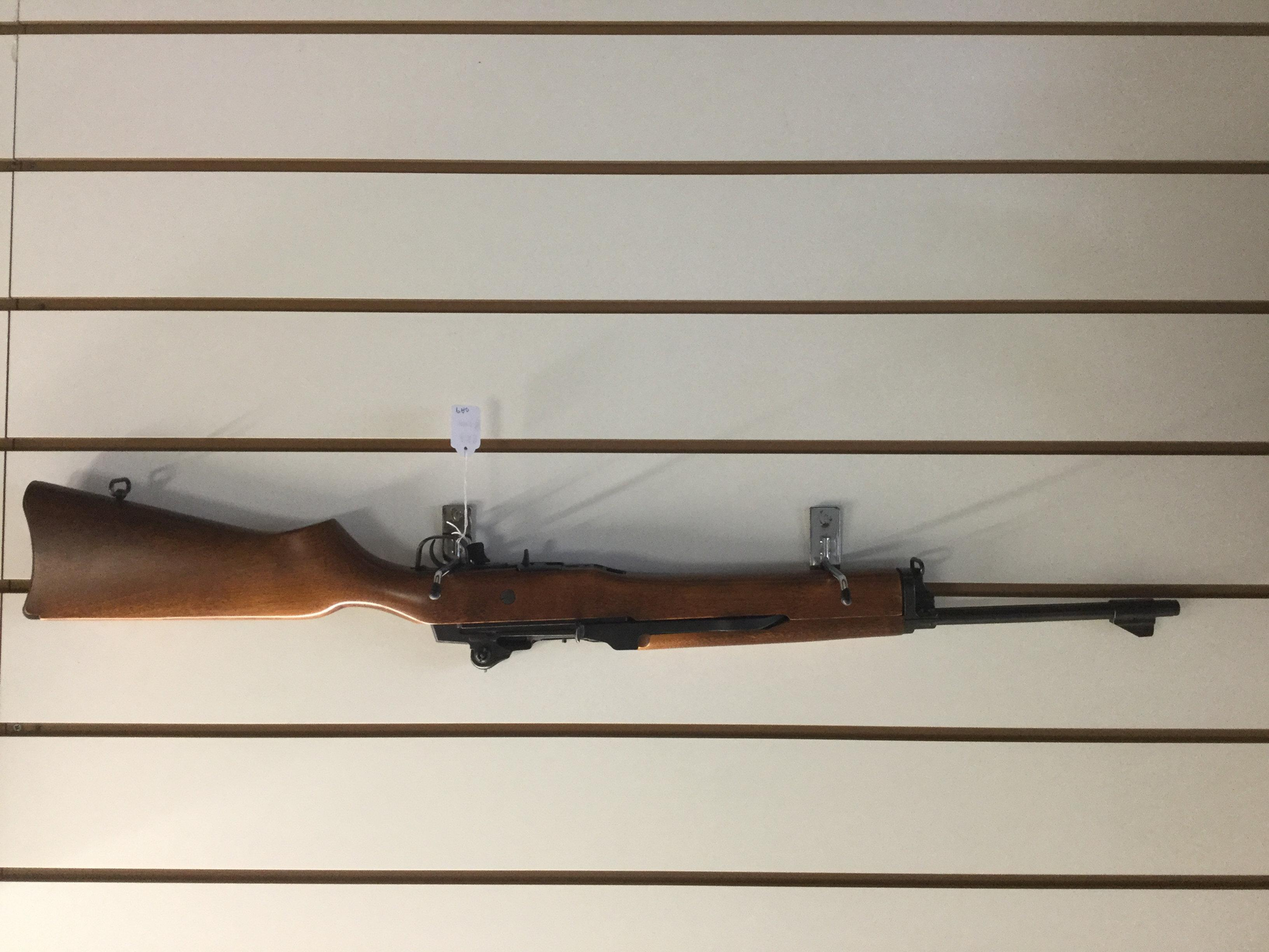larga: (20, 476, 1181, 673)
